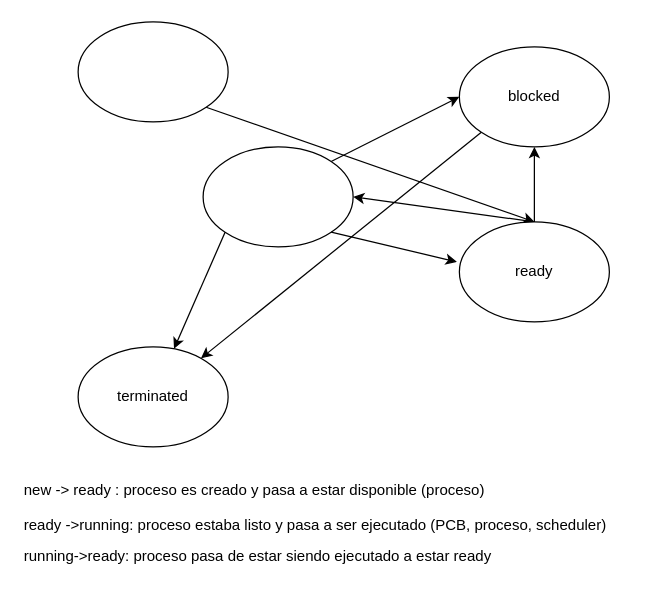
Some shapes in this 655 by 613 pixel diagram are drawn without their labels. The shapes that lost their labels are listed below. From the top down, each one's centre as x and y in pixels, then its label:
At point (152, 71): "new".
At point (277, 196): "running".
